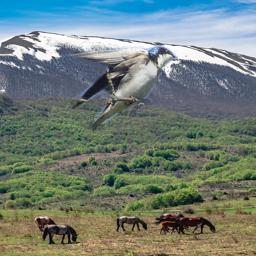Swallow: (63, 44, 178, 132)
